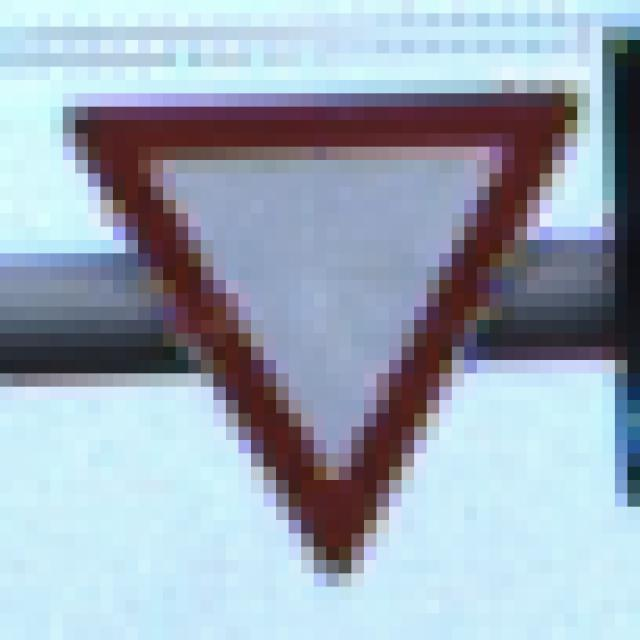Give Way: (64, 68, 578, 574)
